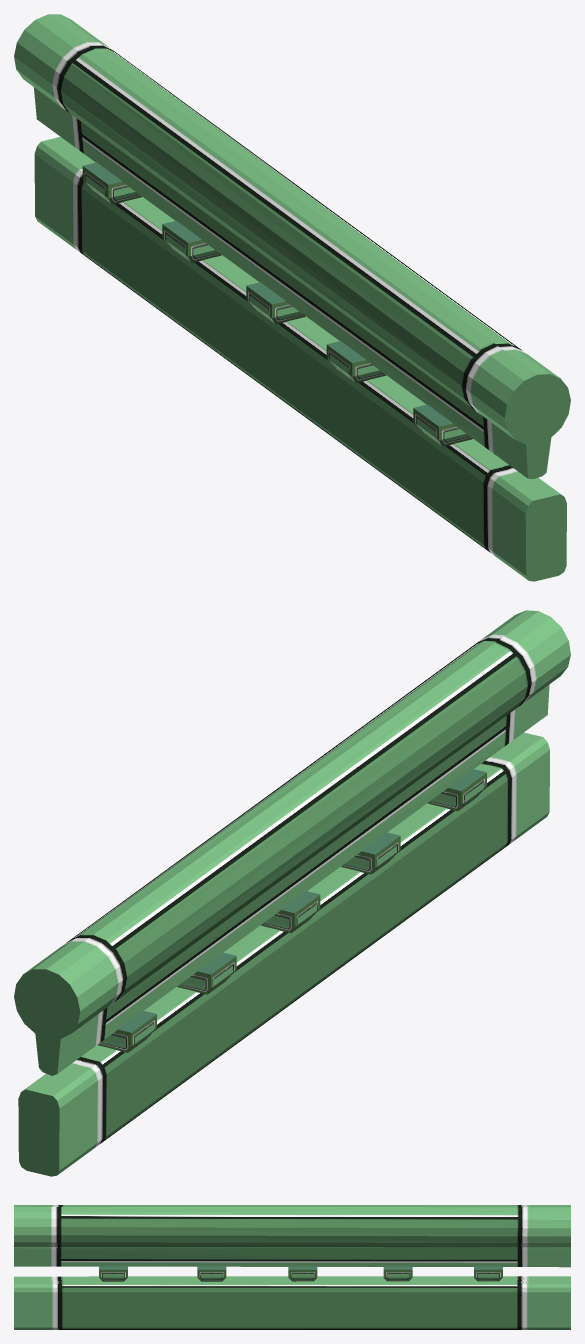
The model's file is SM_R_Dancheong_14.fbx.
3 renders of one model, top to bottom at view 1: azimuth 30°, elevation 25°; view 2: azimuth 150°, elevation 25°; view 3: azimuth 270°, elevation 25°, orthographic. The views are drawn at different scales.
Parts seen in each view (by area): view 1: SM_R_Dancheong_14_LOD0; view 2: SM_R_Dancheong_14_LOD0; view 3: SM_R_Dancheong_14_LOD0.
Part boxes in pixels (x1,y1,x2,y2): SM_R_Dancheong_14_LOD0: [14, 14, 570, 581]; SM_R_Dancheong_14_LOD0: [14, 610, 570, 1176]; SM_R_Dancheong_14_LOD0: [14, 1205, 570, 1329].
Bounding box in the file's own units: 24.84 × 317 × 73.51.
2 materials, 2 textured.
